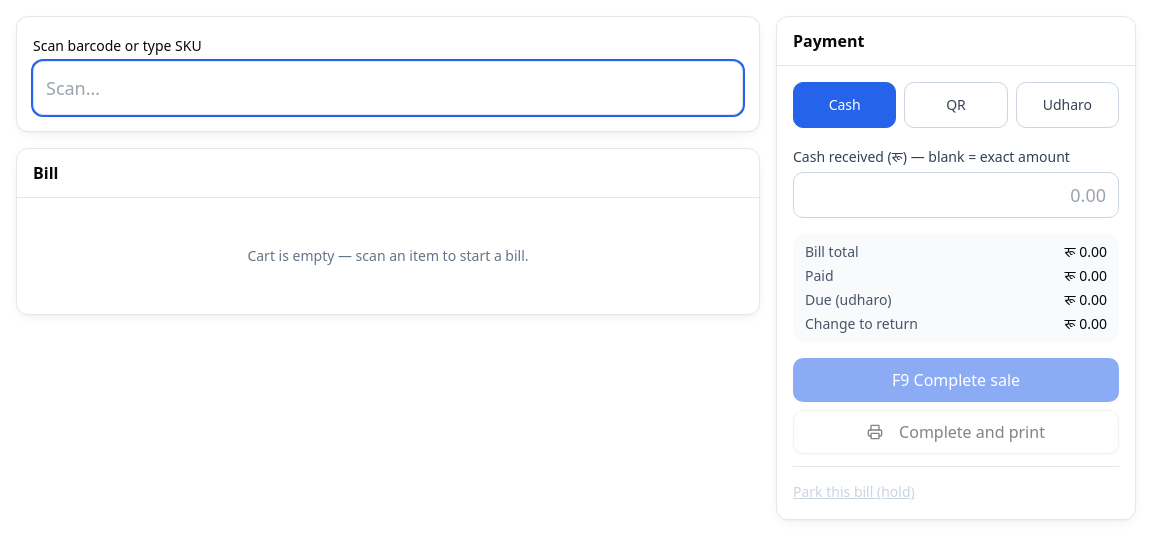
Test: BillingPage counter payment › starts the next bill with an empty amount after parking one
The width and height of the screenshot is (1153, 546).
In the field labelled "Scan barcode or type SKU": x=388, y=88 [33,61,743,115], type "8901234567890"
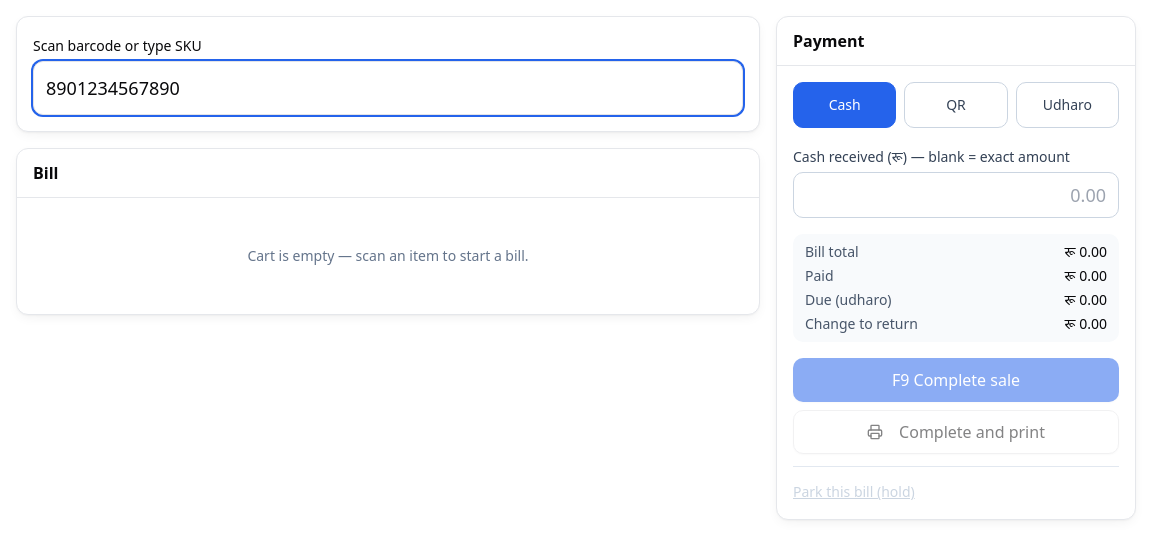
Submit the form labelled "Scan barcode or type SKU", box [33,33,743,115]
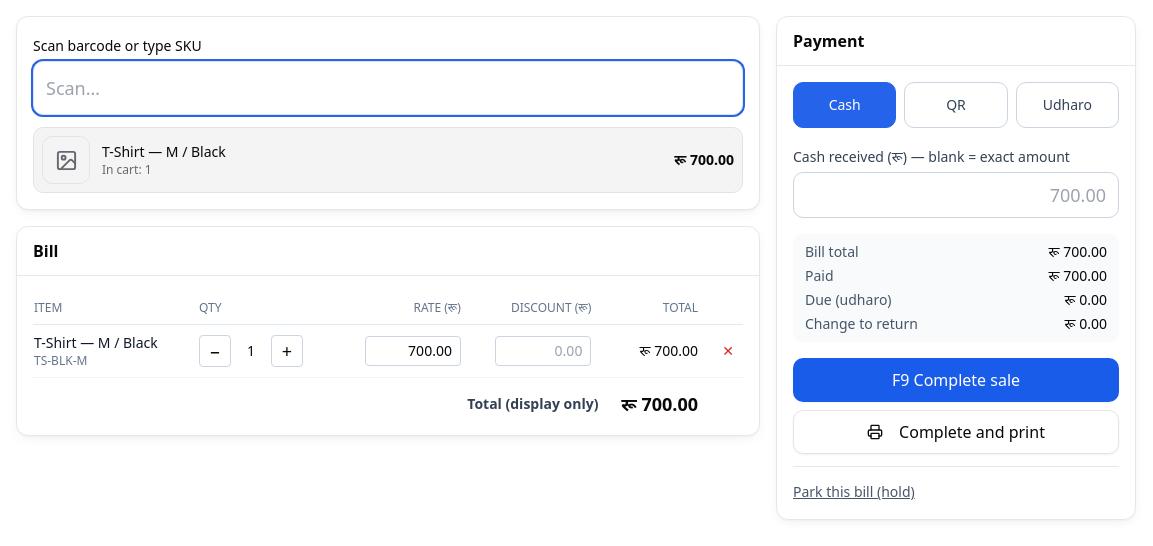
In the field labelled "Cash received (रू) — blank = exact amount": x=956, y=195 [793,172,1119,218], type "1000"
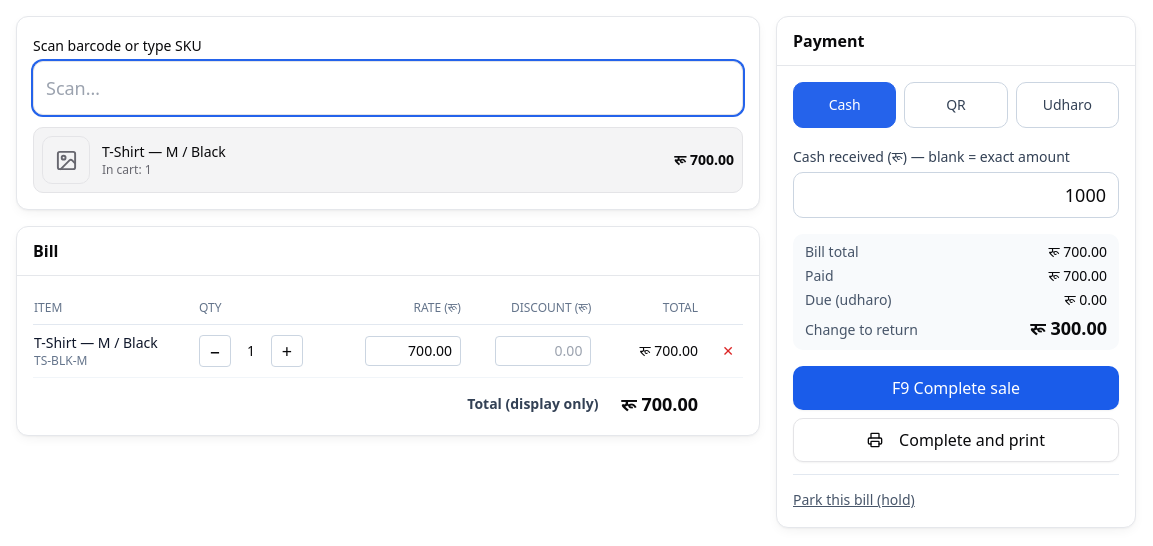
Click the button "Park this bill (hold)": x=854, y=500 [793,490,915,510]
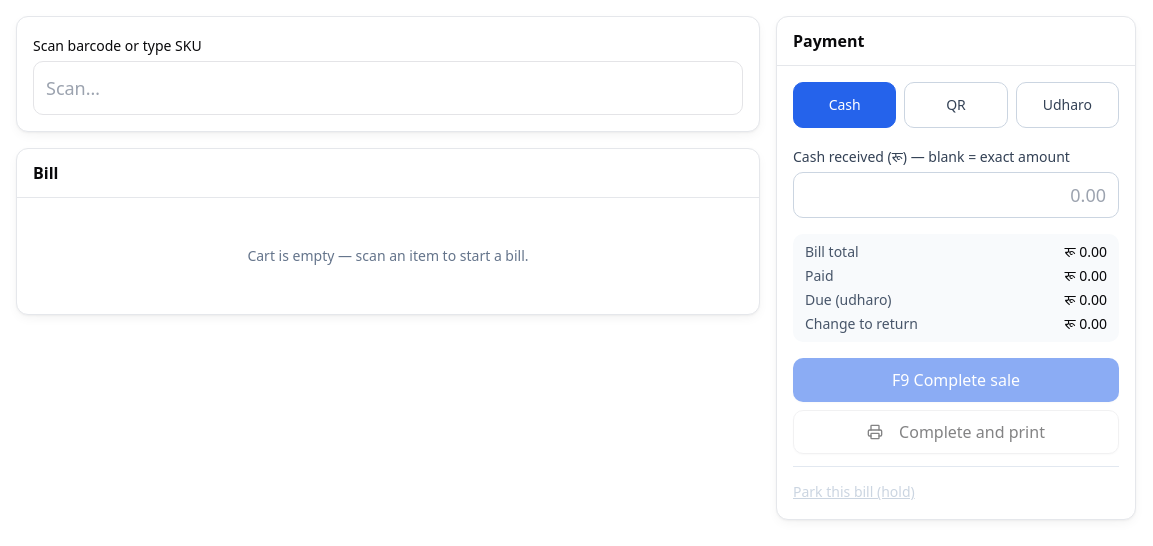
Expected: the text "Cart is empty — scan an item to start a bill." is shown, [247,246,529,265]
Expected: the field labelled "Cash received (रू) — blank = exact amount" is empty, [793,172,1119,218]
